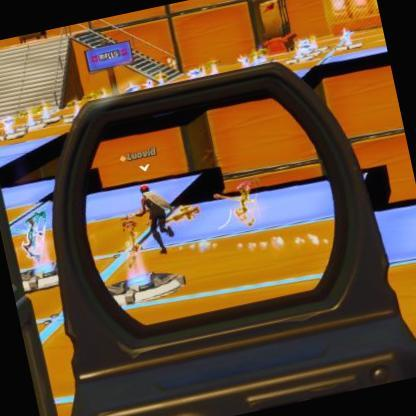person: (122, 176, 186, 262)
